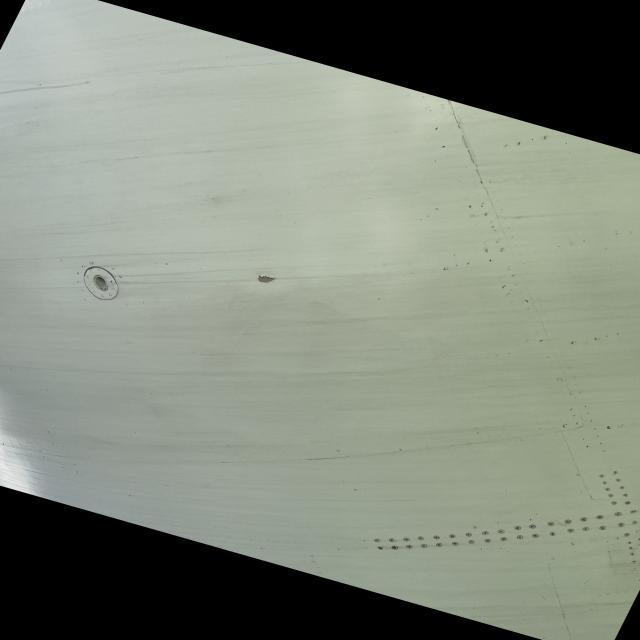crack: (252, 274, 287, 296), (305, 456, 348, 464)
